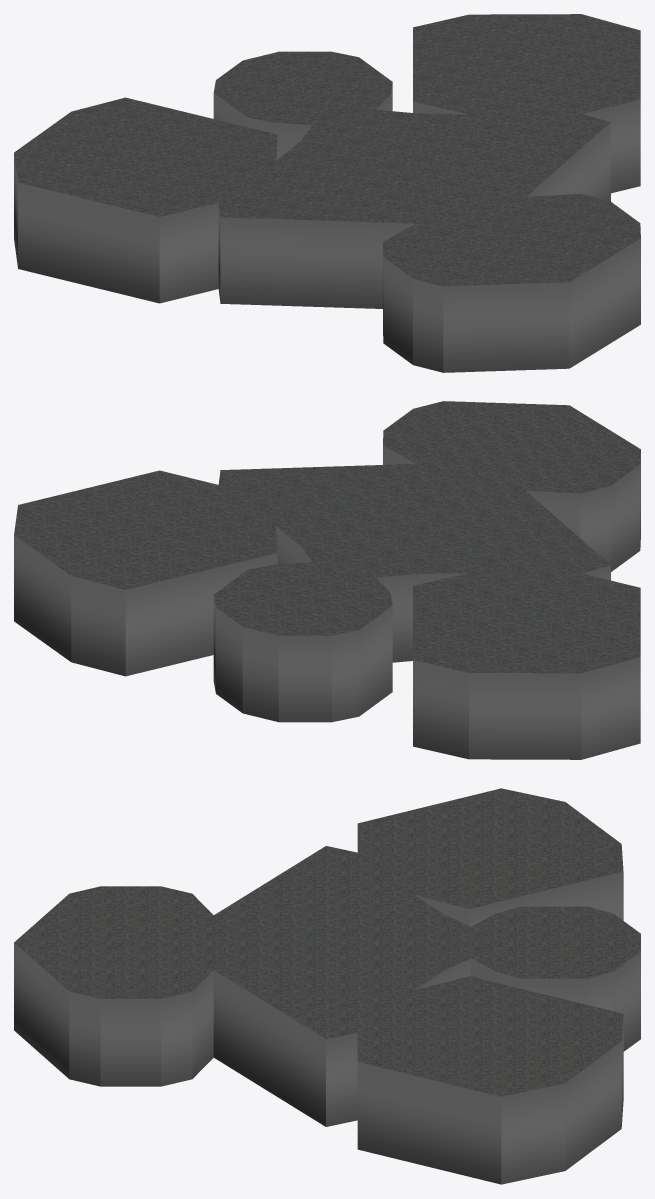
The model's file is Stage2.fbx.
3 views of the same model, one above another, from view 1: azimuth 30°, elevation 25°; view 2: azimuth 150°, elevation 25°; view 3: azimuth 270°, elevation 25° (orthographic).
Parts seen in each view (by area): view 1: polySurface2; view 2: polySurface2; view 3: polySurface2.
Part boxes in pixels (<box>): polySurface2: <box>14,14,640,372</box>; polySurface2: <box>14,401,640,759</box>; polySurface2: <box>14,788,640,1184</box>.
Bounding box in the file's own units: 468 × 62.07 × 402.
Materials: 2 (1 with a texture image).
